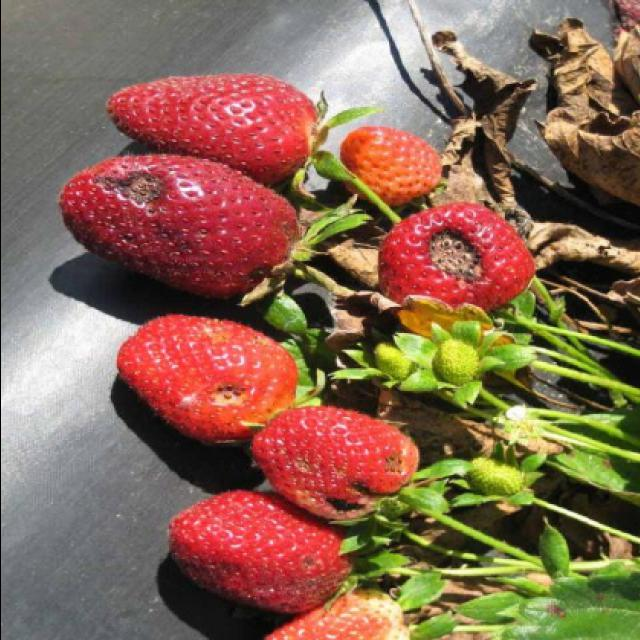Anthracnose Fruit Rot: (90, 164, 196, 253), (320, 448, 410, 515), (418, 217, 491, 288), (210, 378, 254, 412)
